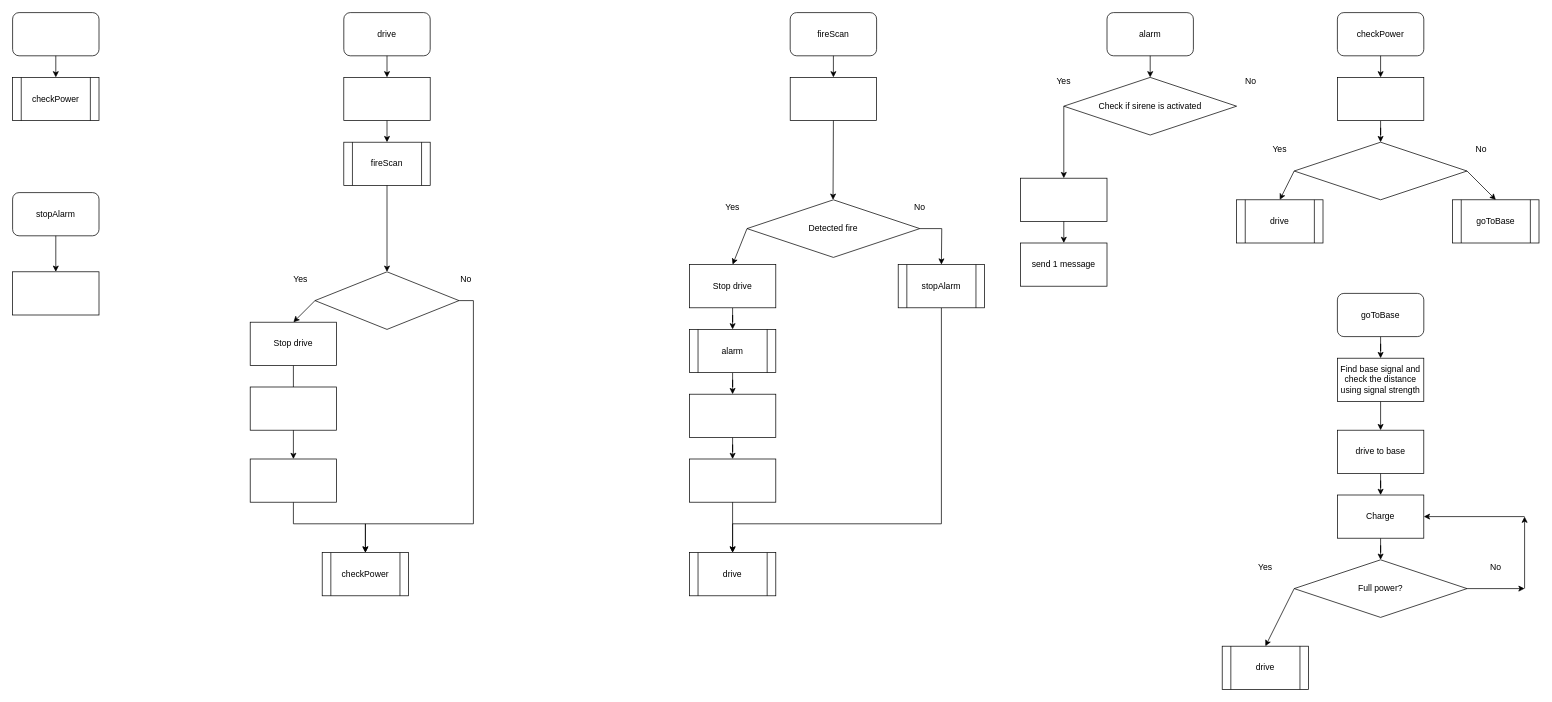
Some shapes in this 1552 by 702 pixel diagram are drawn without their labels. The centre of each missing label's shape, as x and y in pixels:
"Activate fire extinguisher" goes at (x=732, y=480).
"Activate siren and flashing lights" goes at (x=1063, y=199).
"check power level" goes at (x=1380, y=99).
"Deactivate siren and flashing lights" goes at (x=55, y=293).
"Drive backwards" goes at (x=293, y=408).
"Drive Forward" goes at (x=386, y=99).
"Obstacle" goes at (x=386, y=300).
"power level is higher than 30% 30%>" goes at (x=1380, y=170).
"Scanning for fire" goes at (x=833, y=99).
"Start" goes at (x=55, y=34).
"Take aim" goes at (x=732, y=415).
"Turn" goes at (x=293, y=480).
